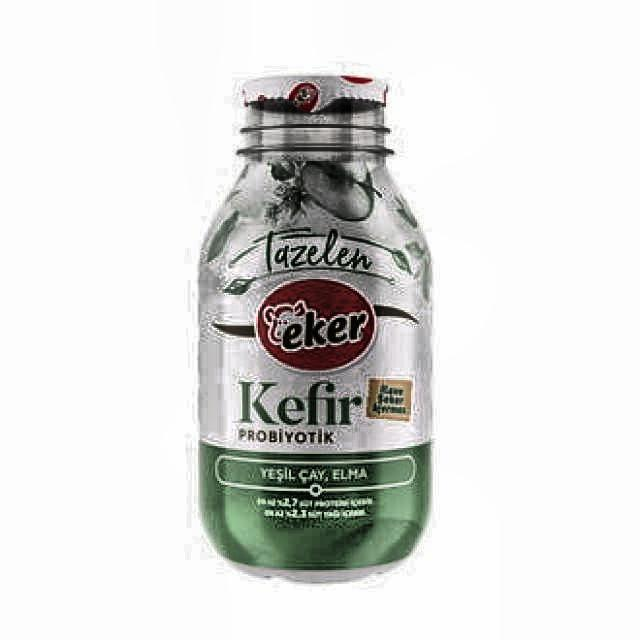plastic: (193, 72, 437, 588)
